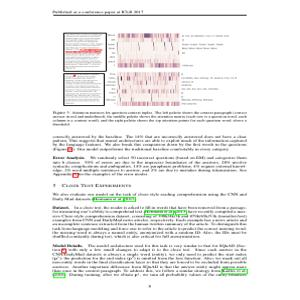diagram: (59, 29, 240, 109)
text: (50, 110, 250, 282)
